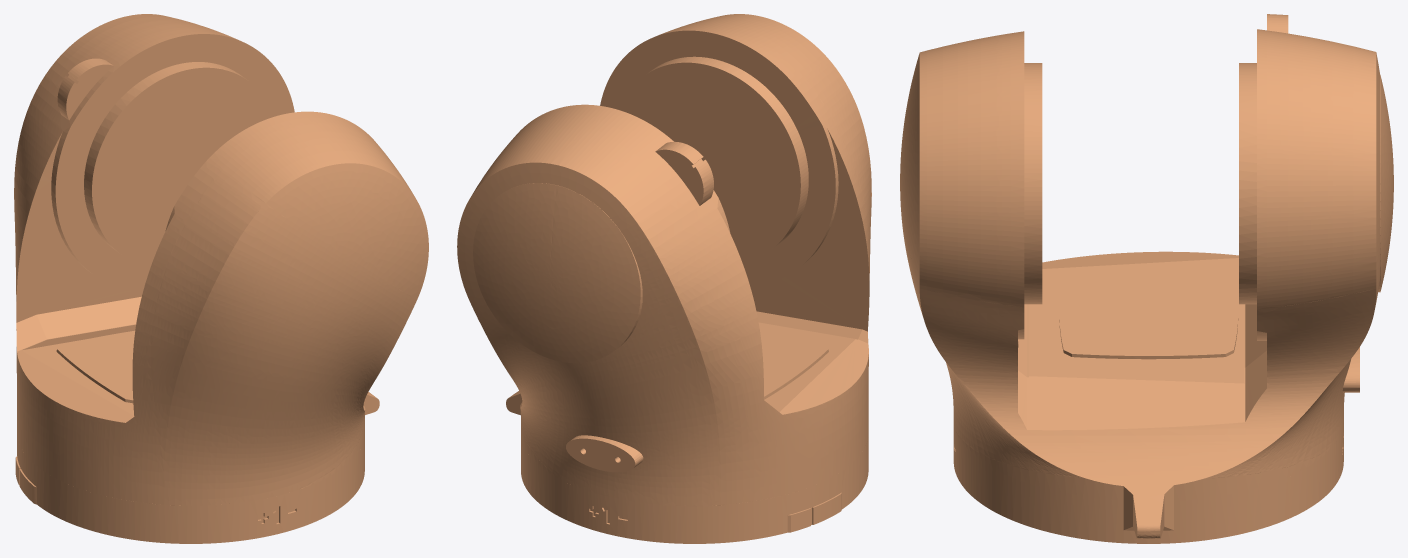
The picture shows the model from 3 angles, left to right: view 1: azimuth 30°, elevation 25°; view 2: azimuth 150°, elevation 25°; view 3: azimuth 270°, elevation 25°; orthographic projection. The views are drawn at different scales.
Visible parts, largest first — view 1: link_1; view 2: link_1; view 3: link_1.
Part boxes in pixels (x1,y1,x2,y2): link_1: [14, 14, 428, 543]; link_1: [457, 14, 871, 543]; link_1: [900, 14, 1393, 543].
Bounding box in the file's own units: 0.2428 × 0.276 × 0.2693.
